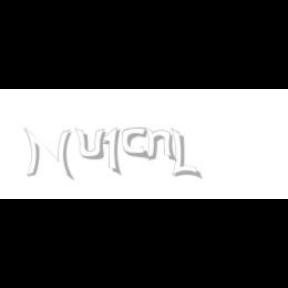1: (100, 128, 122, 176)
L: (171, 128, 199, 180)
N: (23, 128, 72, 180)
c: (122, 128, 150, 160)
n: (144, 128, 178, 162)
u: (74, 128, 110, 160)
